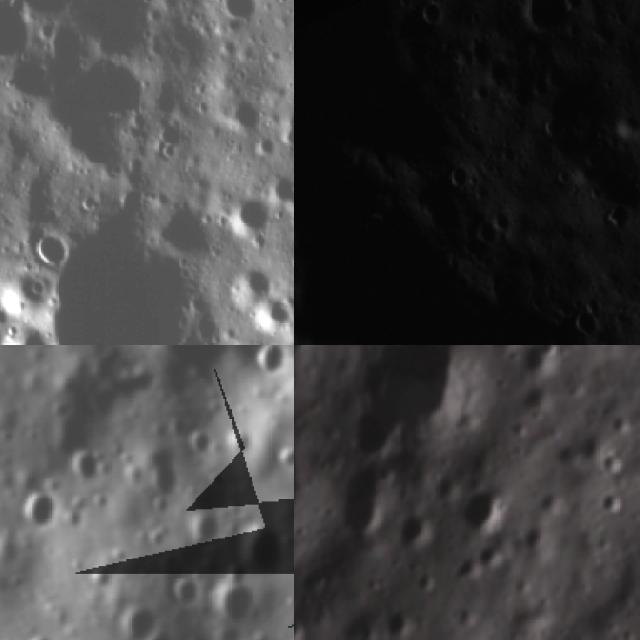crater: (232, 516, 288, 581), (137, 447, 180, 510), (20, 482, 71, 535), (210, 585, 260, 632), (62, 445, 109, 493), (115, 594, 164, 640), (183, 509, 230, 556), (0, 0, 34, 64), (161, 564, 204, 611), (228, 200, 274, 240), (245, 345, 290, 383), (524, 0, 575, 33), (37, 222, 65, 271), (406, 514, 437, 554), (184, 428, 221, 460), (478, 491, 514, 522), (471, 216, 505, 248), (411, 0, 448, 24), (601, 201, 629, 232), (384, 604, 409, 636), (141, 623, 187, 640), (0, 331, 51, 345), (451, 562, 476, 589), (273, 445, 294, 476), (485, 545, 516, 565), (226, 0, 255, 20), (453, 163, 475, 185), (599, 494, 619, 514), (609, 451, 626, 474), (21, 631, 58, 640), (607, 421, 629, 436)
